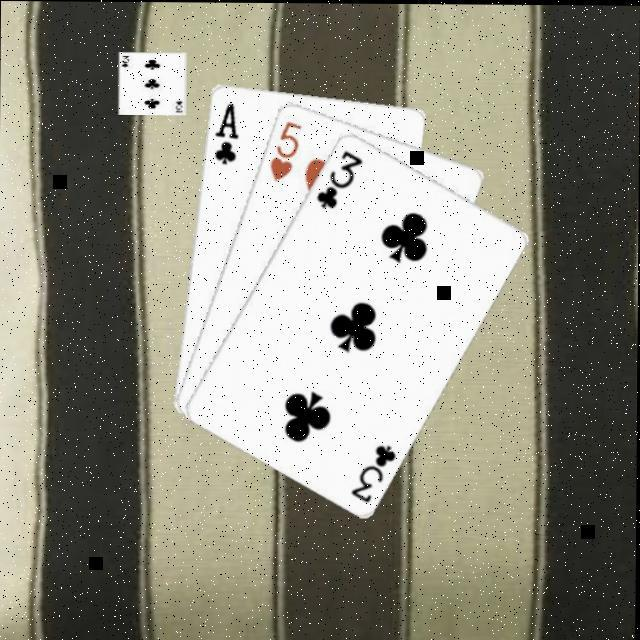3C: (311, 143, 364, 209), (346, 438, 398, 502)
5H: (264, 114, 303, 180)
AC: (209, 97, 239, 165)
